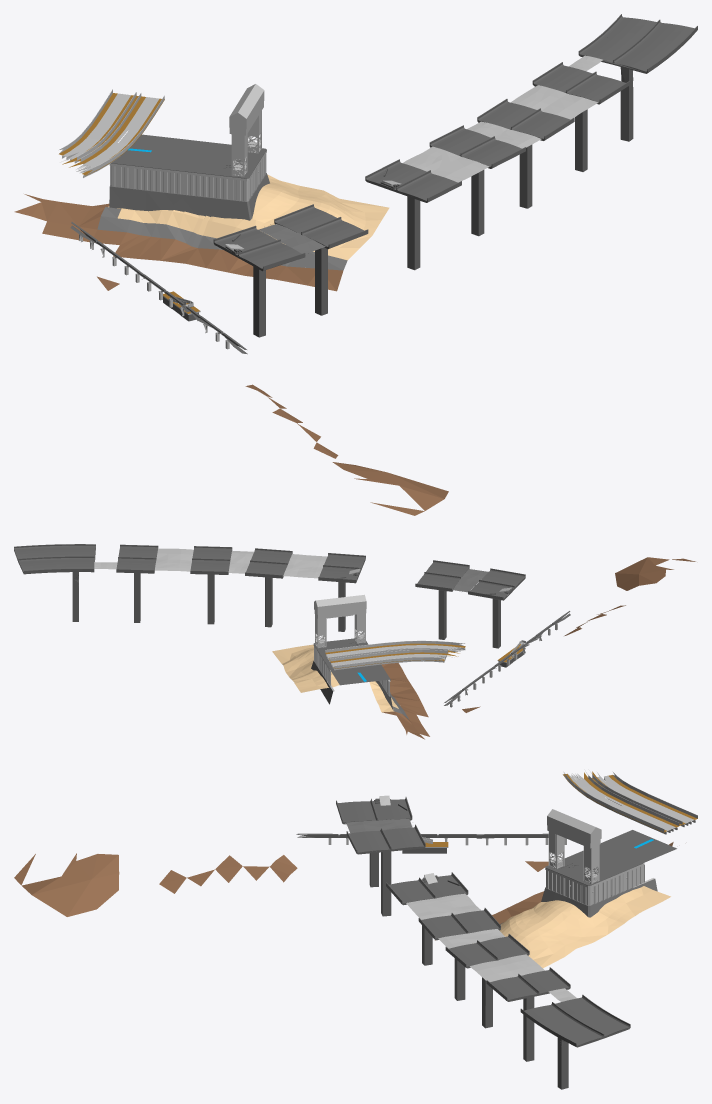
File: bronx_e_6.FBX
3 renders of one model, top to bottom at view 1: azimuth 30°, elevation 25°; view 2: azimuth 150°, elevation 25°; view 3: azimuth 270°, elevation 25°, orthographic. The views are drawn at different scales.
Visible parts, largest first — view 1: unnamed; view 2: unnamed; view 3: unnamed.
Boxes of the visible parts, left/top/right/bottom form: unnamed: left=14, top=14, right=697, bottom=515; unnamed: left=14, top=544, right=695, bottom=739; unnamed: left=14, top=771, right=697, bottom=1089.
Size of the model in its own units: 250 by 59.35 by 267.
